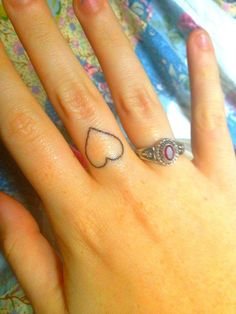finger: (2, 1, 136, 178), (72, 1, 184, 166), (1, 44, 90, 196), (185, 26, 236, 172)
